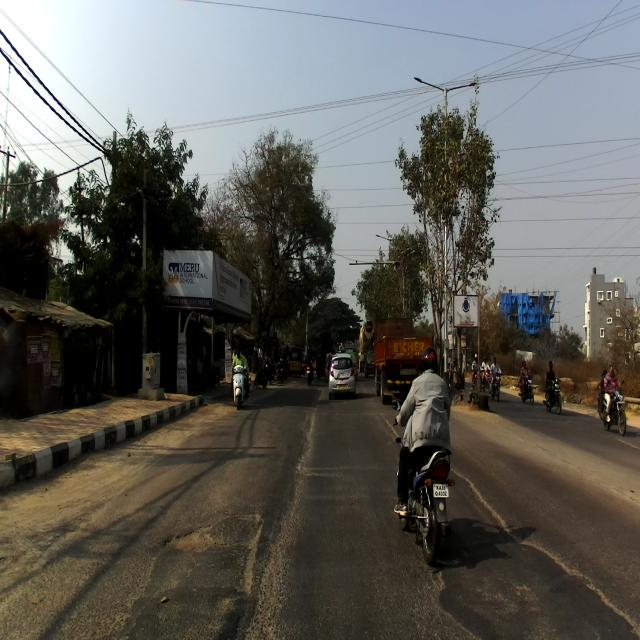motorcycle ahead at: (389, 439, 456, 561)
